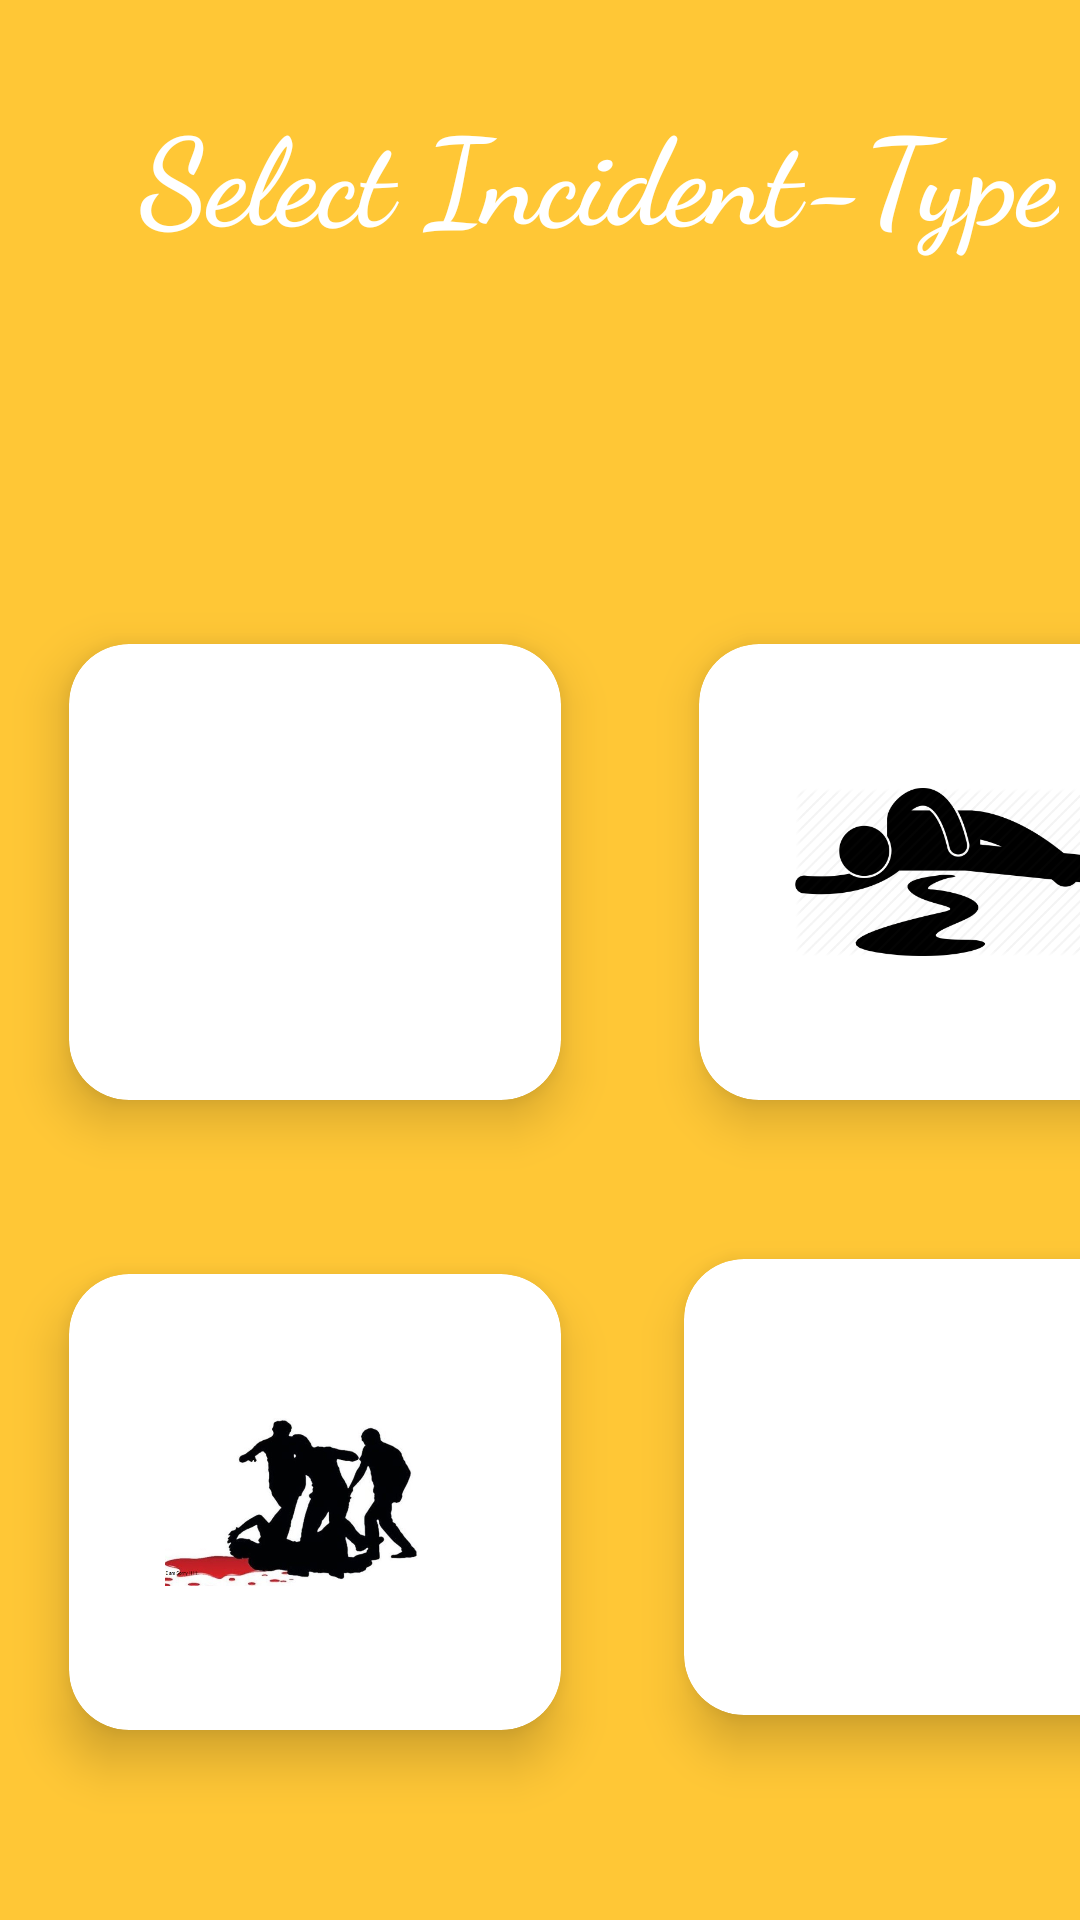

Screen size 1080w x 1920h. Icon name, then its center in pixels as point (x, y):
mob: point (291, 1503)
mur: point (937, 872)
